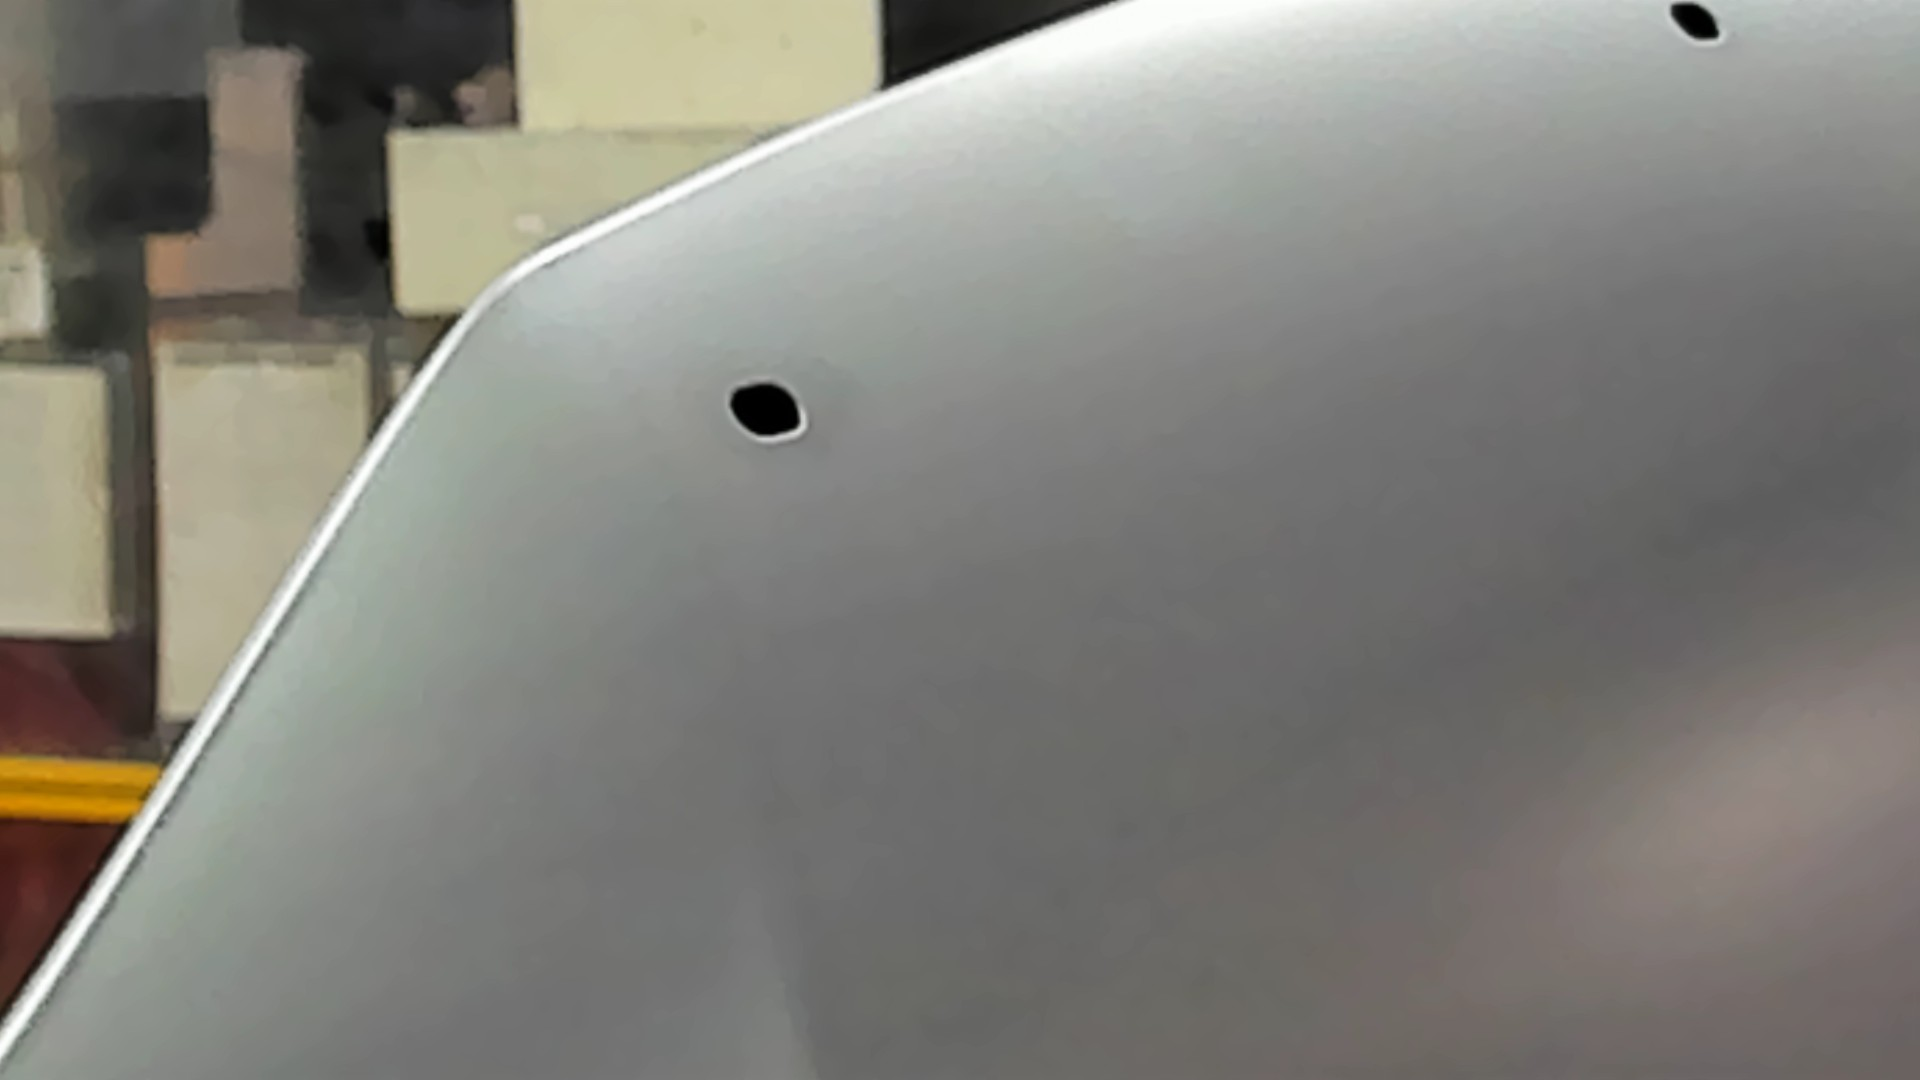amorfo: (720, 372, 818, 454), (1655, 1, 1734, 53)
